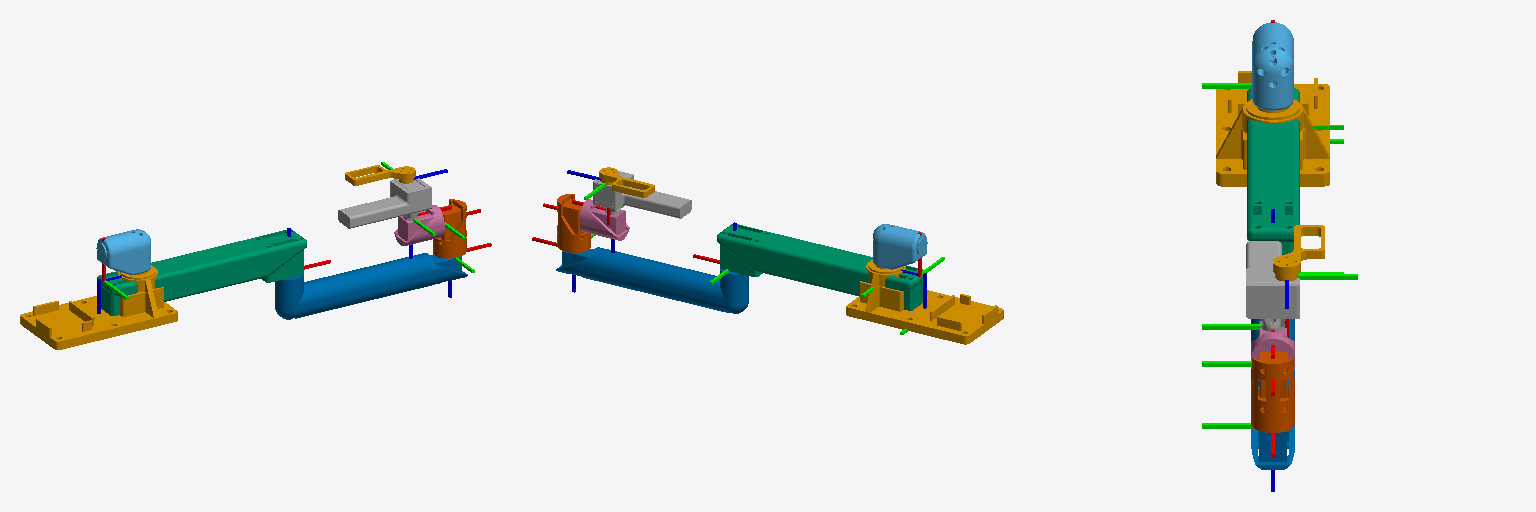
URDF robot description (GELLO_Assembly_URDF_V4):
<?xml version='1.0' encoding='utf-8'?>
<robot 
    name="GELLO_Assembly_URDF_V4">
    <!-- Debug visuals: small XYZ axes on each link frame (X=red, Y=green, Z=blue) -->
    <material name="frame_x_red">
        <color rgba="1 0 0 1" />
    </material>
    <material name="frame_y_green">
        <color rgba="0 1 0 1" />
    </material>
    <material name="frame_z_blue">
        <color rgba="0 0 1 1" />
    </material>
    <link name="base_link">
        <inertial>
            <origin 
                xyz="0.012101145839417736 4.5485259978825654e-05 0.012837746339482453" 
                rpy="0.0 0.0 0.0" />
            <mass 
                value="0.1521" />
            <inertia 
                ixx="0.000787615441049584" 
                iyy="0.0026373975037422373" 
                izz="0.0030248527508061783" 
                ixy="2.843446005017187e-06" 
                iyz="-1.23281289165201e-07" 
                ixz="-0.0003208037873725998" />
        </inertial>
        <visual 
            name="base_link_visual">
            <origin 
                xyz="0.0 0.0 0.0" 
                rpy="0.0 0.0 0.0" />
            <geometry>
                <mesh 
                    filename="meshes/base_link.stl" 
                    scale="0.001 0.001 0.001" />
            </geometry>
        </visual>
        <collision name="base_link_collision">
            <origin 
                xyz="0.0 0.0 0.0" 
                rpy="0.0 0.0 0.0" />
            <geometry>
                <mesh 
                    filename="meshes/base_link.stl" 
                    scale="0.001 0.001 0.001" />
            </geometry>
        </collision>

        <!-- Frame axes (0.05m long, 0.003m thick) -->
        <visual name="base_link_frame_x">
            <origin xyz="0.025 0 0" rpy="0 0 0" />
            <geometry><box size="0.05 0.003 0.003" /></geometry>
            <material name="frame_x_red" />
        </visual>
        <visual name="base_link_frame_y">
            <origin xyz="0 0.025 0" rpy="0 0 0" />
            <geometry><box size="0.003 0.05 0.003" /></geometry>
            <material name="frame_y_green" />
        </visual>
        <visual name="base_link_frame_z">
            <origin xyz="0 0 0.025" rpy="0 0 0" />
            <geometry><box size="0.003 0.003 0.05" /></geometry>
            <material name="frame_z_blue" />
        </visual>
    </link>
    <link name="link_1">
        <inertial>
            <origin 
                xyz="-0.013013992085734394 -2.9083198717770166e-09 0.037938028629702227" 
                rpy="0.0 -0.0 0.0" />
            <mass 
                value="0.01753" />
            <inertia 
                ixx="2.082359703239737e-05" 
                iyy="3.448540701715534e-05" 
                izz="2.4147887405375526e-05" 
                ixy="2.1787401641000033e-12" 
                iyz="2.850834935600783e-12" 
                ixz="5.385388631231556e-06" />
        </inertial>
        <visual 
            name="link_1_visual">
            <origin 
                xyz="0.0 -1.4901160552385793e-10 0.003000000000000016" 
                rpy="0.0 0.0 3.141592653589793" />
            <geometry>
                <mesh 
                    filename="meshes/link_1.stl" 
                    scale="0.001 0.001 0.001" />
            </geometry>
        </visual>
        <collision 
            name="link_1_collision">
            <origin 
                xyz="0.0 -1.4901160552385793e-10 0.003000000000000016" 
                rpy="0.0 0.0 3.141592653589793" />
            <geometry>
                <mesh 
                    filename="meshes/link_1.stl" 
                    scale="0.001 0.001 0.001" />
            </geometry>
        </collision>

        <!-- Frame axes -->
        <visual name="link_1_frame_x">
            <origin xyz="0.025 0 0" rpy="0 0 0" />
            <geometry><box size="0.05 0.003 0.003" /></geometry>
            <material name="frame_x_red" />
        </visual>
        <visual name="link_1_frame_y">
            <origin xyz="0 0.025 0" rpy="0 0 0" />
            <geometry><box size="0.003 0.05 0.003" /></geometry>
            <material name="frame_y_green" />
        </visual>
        <visual name="link_1_frame_z">
            <origin xyz="0 0 0.025" rpy="0 0 0" />
            <geometry><box size="0.003 0.003 0.05" /></geometry>
            <material name="frame_z_blue" />
        </visual>
    </link>
    <joint 
        name="base_link_joint_1" 
        type="revolute">
        <origin 
            xyz="0.04725 0.0 0.033" 
            rpy="0.0 -0.0 0.0" />
        <parent 
            link="base_link" />
        <child 
            link="link_1" />
        <axis 
            xyz="0.0 0.0 1.0" />
        <limit 
            lower="-3.14159" 
            upper="3.14159" 
            effort="1.0" 
            velocity="10" />
    </joint>
    <link name="link_2">
        <inertial>
            <origin 
                xyz="0.018566 0.000228 0.106619" 
                rpy="0.0 0.0 0.0" />
            <mass 
                value="0.45" />
            <inertia 
                ixx="0.00268984" 
                ixy="-1.90105e-06" 
                ixz="2.46637e-04" 
                iyy="0.00289029" 
                iyz="-3.39134e-06" 
                izz="0.00029357" />
        </inertial>
        <visual 
            name="link_2_visual">
            <origin 
                xyz="0.0 0.0 0.0" 
                rpy="0.0 0.0 0.0" />
            <geometry>
                <mesh 
                    filename="meshes/link_2.stl" 
                    scale="0.001 0.001 0.001" />
            </geometry>
        </visual>
        <collision 
            name="link_2_collision">
            <origin 
                xyz="0.0 0.0 0.0" 
                rpy="0.0 0.0 0.0" />
            <geometry>
                <mesh 
                    filename="meshes/link_2.stl" 
                    scale="0.001 0.001 0.001" />
            </geometry>
        </collision>

        <!-- Frame axes -->
        <visual name="link_2_frame_x">
            <origin xyz="0.025 0 0" rpy="0 0 0" />
            <geometry><box size="0.05 0.003 0.003" /></geometry>
            <material name="frame_x_red" />
        </visual>
        <visual name="link_2_frame_y">
            <origin xyz="0 0.025 0" rpy="0 0 0" />
            <geometry><box size="0.003 0.05 0.003" /></geometry>
            <material name="frame_y_green" />
        </visual>
        <visual name="link_2_frame_z">
            <origin xyz="0 0 0.025" rpy="0 0 0" />
            <geometry><box size="0.003 0.003 0.05" /></geometry>
            <material name="frame_z_blue" />
        </visual>
    </link>

    <link name="link_2_extra_mass">
        <inertial>
            <origin xyz="0.17 0 -0.35" rpy="0 0 0" />
            <mass value="0.226263" />
            <inertia ixx="0" ixy="0" ixz="0" iyy="0" iyz="0" izz="0" />
        </inertial>
    </link>

    <joint name="link_2_extra_mass_joint" type="fixed">
        <origin xyz="0 0 0" rpy="0 0 0" />
        <parent link="link_2" />
        <child link="link_2_extra_mass" />
    </joint>
    <joint 
        name="link_2_joint_2" 
        type="revolute">
        <origin 
            xyz="-0.04109700000000001 8.93885791302459e-05 0.013141463219374261" 
            rpy="-3.141592653589793 -1.5707963267948966 0" />
        <parent 
            link="link_1" />
        <child 
            link="link_2" />
        <axis 
            xyz="0.0 -0.0 -1.0" />
        <limit 
            lower="-3.14159" 
            upper="3.14159" 
            effort="3.5" 
            velocity="10" />
    </joint>
    <link name="link_3">
        <inertial>
            <origin 
                xyz="0.03498 0.00004 0.09722" 
                rpy="0.0 -0.0 0.0" />
            <mass 
                value="0.25" />
            <inertia 
                ixx="6.70e-04" 
                iyy="1.87e-03" 
                izz="1.24e-03" 
                ixy="-2.43e-07" 
                iyz="-1.74e-07" 
                ixz="4.88e-04" />
        </inertial>
        <visual 
            name="link_3_visual">
            <origin 
                xyz="-0.015499997823088344 -1.7002665094779935e-09 -0.0029875020980838093" 
                rpy="-3.141592653589793 -1.5707963267948515 0" />
            <geometry>
                <mesh 
                    filename="meshes/link_3.stl" 
                    scale="0.001 0.001 0.001" />
            </geometry>
        </visual>
        <collision 
            name="link_3_collision">
            <origin 
                xyz="-0.015499997823088344 -1.7002665094779935e-09 -0.0029875020980838093" 
                rpy="-3.141592653589793 -1.5707963267948515 0" />
            <geometry>
                <mesh 
                    filename="meshes/link_3.stl" 
                    scale="0.001 0.001 0.001" />
            </geometry>
        </collision>

        <!-- Frame axes -->
        <visual name="link_3_frame_x">
            <origin xyz="0.025 0 0" rpy="0 0 0" />
            <geometry><box size="0.05 0.003 0.003" /></geometry>
            <material name="frame_x_red" />
        </visual>
        <visual name="link_3_frame_y">
            <origin xyz="0 0.025 0" rpy="0 0 0" />
            <geometry><box size="0.003 0.05 0.003" /></geometry>
            <material name="frame_y_green" />
        </visual>
        <visual name="link_3_frame_z">
            <origin xyz="0 0 0.025" rpy="0 0 0" />
            <geometry><box size="0.003 0.003 0.05" /></geometry>
            <material name="frame_z_blue" />
        </visual>
    </link>
    <joint 
        name="link_2_joint_3" 
        type="revolute">
        <origin 
            xyz="-0.04109700000000001 -1.4208697541456816e-09 0.22629999321937447" 
            rpy="-3.141592653589793 -1.5707963267948966 0" />
        <parent 
            link="link_2" />
        <child 
            link="link_3" />
        <axis 
            xyz="1.0 0.0 0.0" />
        <limit 
            lower="-3.14159" 
            upper="3.14159" 
            effort="3.5" 
            velocity="10" />
    </joint>
    <link name="link_4">
        <inertial>
            <origin 
                xyz="-0.02792 0.00055 -0.00109" 
                    rpy="0.0 -0.0 0.0" />
            <mass 
                value="0.0412" />
            <inertia 
                ixx="1.74e-05" 
                iyy="3.46e-05" 
                izz="2.64e-05" 
                ixy="3.26e-07" 
                iyz="-5.98e-07" 
                ixz="1.12e-05" />
        </inertial>
        <visual 
            name="link_4_visual">
            <origin 
                xyz="2.2236167041000952e-09 1.0978169125673566e-09 -0.002999996757507506" 
                rpy="3.141592653589793 0.0 -3.141592653589793" />
            <geometry>
                <mesh 
                    filename="meshes/link_4.stl" 
                    scale="0.001 0.001 0.001" />
            </geometry>
        </visual>
        <collision 
            name="link_4_collision">
            <origin 
                xyz="2.2236167041000952e-09 1.0978169125673566e-09 -0.002999996757507506" 
                rpy="3.141592653589793 0.0 -3.141592653589793" />
            <geometry>
                <mesh 
                    filename="meshes/link_4.stl" 
                    scale="0.001 0.001 0.001" />
            </geometry>
        </collision>

        <!-- Frame axes -->
        <visual name="link_4_frame_x">
            <origin xyz="0.025 0 0" rpy="0 0 0" />
            <geometry><box size="0.05 0.003 0.003" /></geometry>
            <material name="frame_x_red" />
        </visual>
        <visual name="link_4_frame_y">
            <origin xyz="0 0.025 0" rpy="0 0 0" />
            <geometry><box size="0.003 0.05 0.003" /></geometry>
            <material name="frame_y_green" />
        </visual>
        <visual name="link_4_frame_z">
            <origin xyz="0 0 0.025" rpy="0 0 0" />
            <geometry><box size="0.003 0.003 0.05" /></geometry>
            <material name="frame_z_blue" />
        </visual>
    </link>
    <joint 
        name="link_3_joint_4" 
        type="revolute">
        <origin 
            xyz="0.19610000999999996 0.0 -0.025975" 
            rpy="3.141592653589793 0.0 -0.0" />
        <parent 
            link="link_3" />
        <child 
            link="link_4" />
        <axis 
            xyz="0.0 0.0 -1.0" />
        <limit 
            lower="-3.14159" 
            upper="3.14159" 
            effort="1.0" 
            velocity="10" />
    </joint>
    <link name="link_5">
        <inertial>
            <origin 
                xyz="-0.00091 -0.00014 -0.02400" 
                rpy="0.0 -0.0 0.0" />
            <mass 
                value="0.037" />
            <inertia 
                ixx="8.11e-05" 
                iyy="8.45e-05" 
                izz="1.25e-05" 
                ixy="6.60e-08" 
                iyz="3.94e-06" 
                ixz="6.76e-06" />
        </inertial>
        <visual 
            name="link_5_visual">
            <origin 
                xyz="-0.0029999977763846887 1.097816903963128e-09 2.512335690596501e-09" 
                rpy="0.0 1.5707963267948966 0" />
            <geometry>
                <mesh 
                    filename="meshes/link_5.stl" 
                    scale="0.001 0.001 0.001" />
            </geometry>
        </visual>
        <collision 
            name="link_5_collision">
            <origin 
                xyz="-0.0029999977763846887 1.097816903963128e-09 2.512335690596501e-09" 
                rpy="0.0 1.5707963267948966 0" />
            <geometry>
                <mesh 
                    filename="meshes/link_5.stl" 
                    scale="0.001 0.001 0.001" />
            </geometry>
        </collision>

        <!-- Frame axes -->
        <visual name="link_5_frame_x">
            <origin xyz="0.025 0 0" rpy="0 0 0" />
            <geometry><box size="0.05 0.003 0.003" /></geometry>
            <material name="frame_x_red" />
        </visual>
        <visual name="link_5_frame_y">
            <origin xyz="0 0.025 0" rpy="0 0 0" />
            <geometry><box size="0.003 0.05 0.003" /></geometry>
            <material name="frame_y_green" />
        </visual>
        <visual name="link_5_frame_z">
            <origin xyz="0 0 0.025" rpy="0 0 0" />
            <geometry><box size="0.003 0.003 0.05" /></geometry>
            <material name="frame_z_blue" />
        </visual>
    </link>
    <joint 
        name="link_4_joint_5" 
        type="revolute">
        <origin 
            xyz="-0.01239999999999995 0.0 -0.0425" 
            rpy="0.0 0.0 -0.0" />
        <parent 
            link="link_4" />
        <child 
            link="link_5" />
        <axis 
            xyz="-1.0 0.0 -0.0" />
        <limit 
            lower="-3.14159" 
            upper="3.14159" 
            effort="1.0" 
            velocity="10" />
    </joint>
    <link name="link_6_handle">
        <inertial>
            <origin 
                xyz="-0.02576 -0.00154 -0.01597" 
                rpy="0.0 -0.0 0.0" />
            <mass 
                value="0.0482" />
            <inertia 
                ixx="2.21e-05" 
                iyy="1.48e-04" 
                izz="1.43e-04" 
                ixy="-5.32e-06" 
                iyz="2.59e-06" 
                ixz="2.95e-05" />
        </inertial>
        <visual 
            name="link_6_handle_visual">
            <origin 
                xyz="-0.009999998074407372 -0.001999999244909985 -0.027499997681379087" 
                rpy="3.141592653589793 0.0 1.5707963267948968" />
            <geometry>
                <mesh 
                    filename="meshes/link_6_handle.stl" 
                    scale="0.001 0.001 0.001" />
            </geometry>
        </visual>
        <collision 
            name="link_6_handle_collision">
            <origin 
                xyz="-0.009999998074407372 -0.001999999244909985 -0.027499997681379087" 
                rpy="3.141592653589793 0.0 1.5707963267948968" />
            <geometry>
                <mesh 
                    filename="meshes/link_6_handle.stl" 
                    scale="0.001 0.001 0.001" />
            </geometry>
        </collision>

        <!-- Frame axes -->
        <visual name="link_6_handle_frame_x">
            <origin xyz="0.025 0 0" rpy="0 0 0" />
            <geometry><box size="0.05 0.003 0.003" /></geometry>
            <material name="frame_x_red" />
        </visual>
        <visual name="link_6_handle_frame_y">
            <origin xyz="0 0.025 0" rpy="0 0 0" />
            <geometry><box size="0.003 0.05 0.003" /></geometry>
            <material name="frame_y_green" />
        </visual>
        <visual name="link_6_handle_frame_z">
            <origin xyz="0 0 0.025" rpy="0 0 0" />
            <geometry><box size="0.003 0.003 0.05" /></geometry>
            <material name="frame_z_blue" />
        </visual>
    </link>
    <joint 
        name="link_5_joint_6" 
        type="revolute">
        <origin 
            xyz="-0.035500000000000045 0.0 -0.012000000000000002" 
            rpy="0.0 -0.0 0.0" />
        <parent 
            link="link_5" />
        <child 
            link="link_6_handle" />
        <axis 
            xyz="-0.0 -0.0 -1.0" />
        <limit 
            lower="-3.14159" 
            upper="3.14159" 
            effort="1.0" 
            velocity="10" />
    </joint>
    <link name="link_7_trigger">
        <inertial>
            <origin 
                xyz="-0.008247223911074358 0.0078024108281084 -0.02009706810131938" 
                rpy="0.0 -0.0 0.0" />
            <mass 
                value="0.01" />
            <inertia 
                ixx="4.999616537776233e-06" 
                iyy="4.199309723437305e-06" 
                izz="8.93301210709044e-07" 
                ixy="2.1985308491140646e-08" 
                iyz="1.2021398752401404e-06" 
                ixz="-5.662878198282135e-08" />
        </inertial>
        <visual 
            name="link_7_trigger_visual">
            <origin 
                xyz="-0.007999997681379174 -7.550898972752407e-10 1.9851977839380197e-09" 
                rpy="1.5707963267948717 -1.5707963267948966 0" />
            <geometry>
                <mesh 
                    filename="meshes/link_7_trigger.stl" 
                    scale="0.001 0.001 0.001" />
            </geometry>
        </visual>
        <collision 
            name="link_7_trigger_collision">
            <origin 
                xyz="-0.007999997681379174 -7.550898972752407e-10 1.9851977839380197e-09" 
                rpy="1.5707963267948717 -1.5707963267948966 0" />
            <geometry>
                <mesh 
                    filename="meshes/link_7_trigger.stl" 
                    scale="0.001 0.001 0.001" />
            </geometry>
        </collision>

        <!-- Frame axes -->
        <visual name="link_7_trigger_frame_x">
            <origin xyz="0.025 0 0" rpy="0 0 0" />
            <geometry><box size="0.05 0.003 0.003" /></geometry>
            <material name="frame_x_red" />
        </visual>
        <visual name="link_7_trigger_frame_y">
            <origin xyz="0 0.025 0" rpy="0 0 0" />
            <geometry><box size="0.003 0.05 0.003" /></geometry>
            <material name="frame_y_green" />
        </visual>
        <visual name="link_7_trigger_frame_z">
            <origin xyz="0 0 0.025" rpy="0 0 0" />
            <geometry><box size="0.003 0.003 0.05" /></geometry>
            <material name="frame_z_blue" />
        </visual>
    </link>
    <joint 
        name="link_6_handle_gripper" 
        type="revolute">
        <origin 
            xyz="0.0 -0.0095 -0.03899999999999999" 
            rpy="-3.141592653589793 -1.5707963267948966 0" />
        <parent 
        link="link_6_handle" />
        <child 
            link="link_7_trigger" />
        <axis 
            xyz="-1.0 0.0 -0.0" />
        <limit 
            lower="-3.14159" 
            upper="3.14159" 
            effort="1.0" 
            velocity="10" />
    </joint>
</robot>

--- Facts derived from the render (not from the file) ---
The picture shows the robot from 3 angles, left to right: view 1: azimuth 30°, elevation 25°; view 2: azimuth 150°, elevation 25°; view 3: azimuth 270°, elevation 25°; orthographic projection.
Robot: GELLO_Assembly_URDF_V4 — 9 links, 8 joints (7 revolute, 1 fixed); root link base_link; default pose: all joints at 0.
Links seen in each view (by area): view 1: link_2, link_3, base_link, link_6_handle, link_1, link_4, link_5, link_7_trigger; view 2: link_2, link_3, base_link, link_1, link_6_handle, link_4, link_5, link_7_trigger; view 3: base_link, link_2, link_6_handle, link_4, link_1, link_7_trigger, link_3, link_5.
Link boxes in pixels (x1,y1,x2,y2): link_2: (97,229,306,315); link_3: (275,228,467,319); base_link: (20,265,177,349); link_6_handle: (338,178,451,258); link_1: (96,229,150,274); link_4: (433,199,491,297); link_5: (394,205,480,257); link_7_trigger: (345,162,447,185); link_2: (717,224,944,310); link_3: (556,222,748,313); base_link: (846,260,1003,344); link_1: (861,224,927,297); link_6_handle: (572,171,691,252); link_4: (532,194,595,292); link_5: (543,199,629,240); link_7_trigger: (567,167,654,224); base_link: (1216,71,1343,186); link_2: (1202,20,1299,254); link_6_handle: (1202,241,1299,358); link_4: (1202,352,1294,491); link_1: (1252,22,1343,129); link_7_trigger: (1273,225,1357,337); link_3: (1251,209,1343,469); link_5: (1202,321,1294,395).
Bounding box of the posed robot: 0.5536 × 0.1095 × 0.1671 m (x, y, z).
Meshes: 8 distinct files referenced, 8 mesh visuals loaded (8 binary STL).
